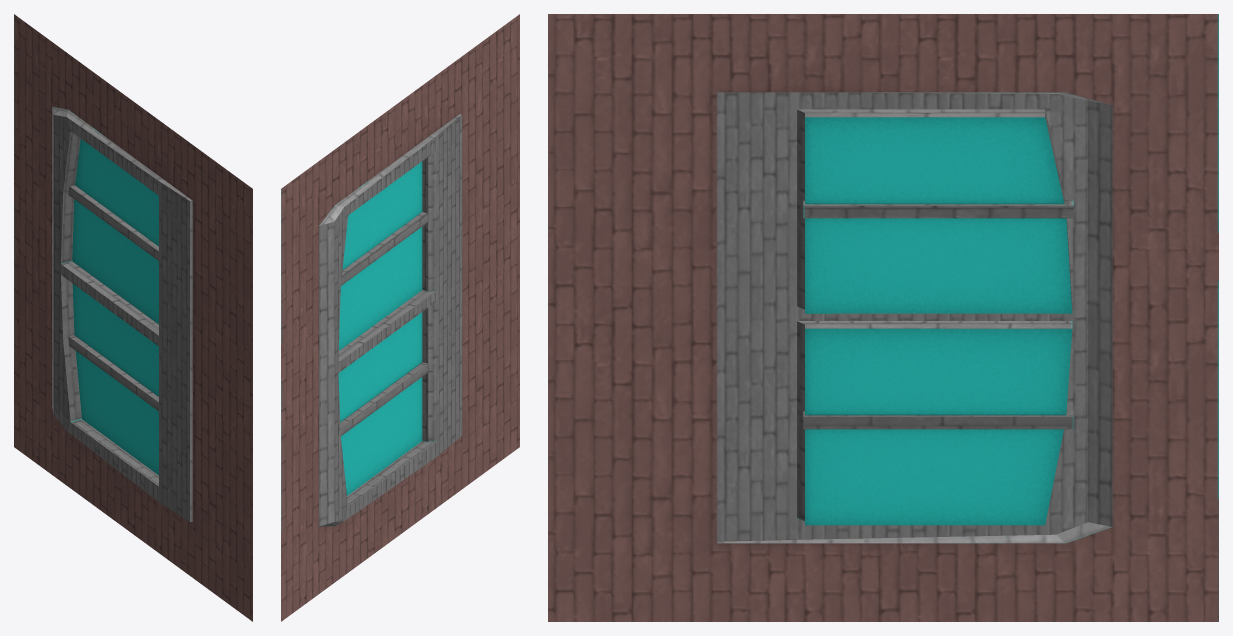
File: Window02.fbx
The picture shows the model from 3 angles, left to right: view 1: azimuth 30°, elevation 25°; view 2: azimuth 150°, elevation 25°; view 3: azimuth 270°, elevation 25°; orthographic projection. The views are drawn at different scales.
Visible parts, largest first — view 1: Plane.005; view 2: Plane.005; view 3: Plane.005.
Part boxes in pixels (x1=…): Plane.005: x1=14, y1=14, x2=252, y2=621; Plane.005: x1=281, y1=14, x2=519, y2=621; Plane.005: x1=548, y1=14, x2=1218, y2=621.
Bounding box in the file's own units: 3.7 × 100 × 100.
